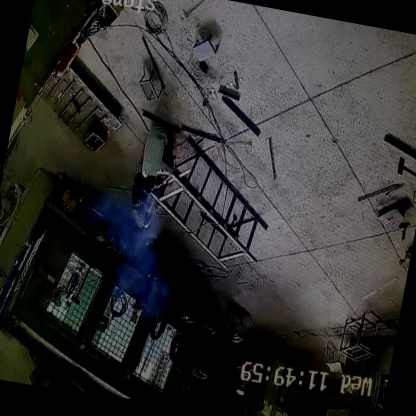smoke: (89, 192, 182, 319)
